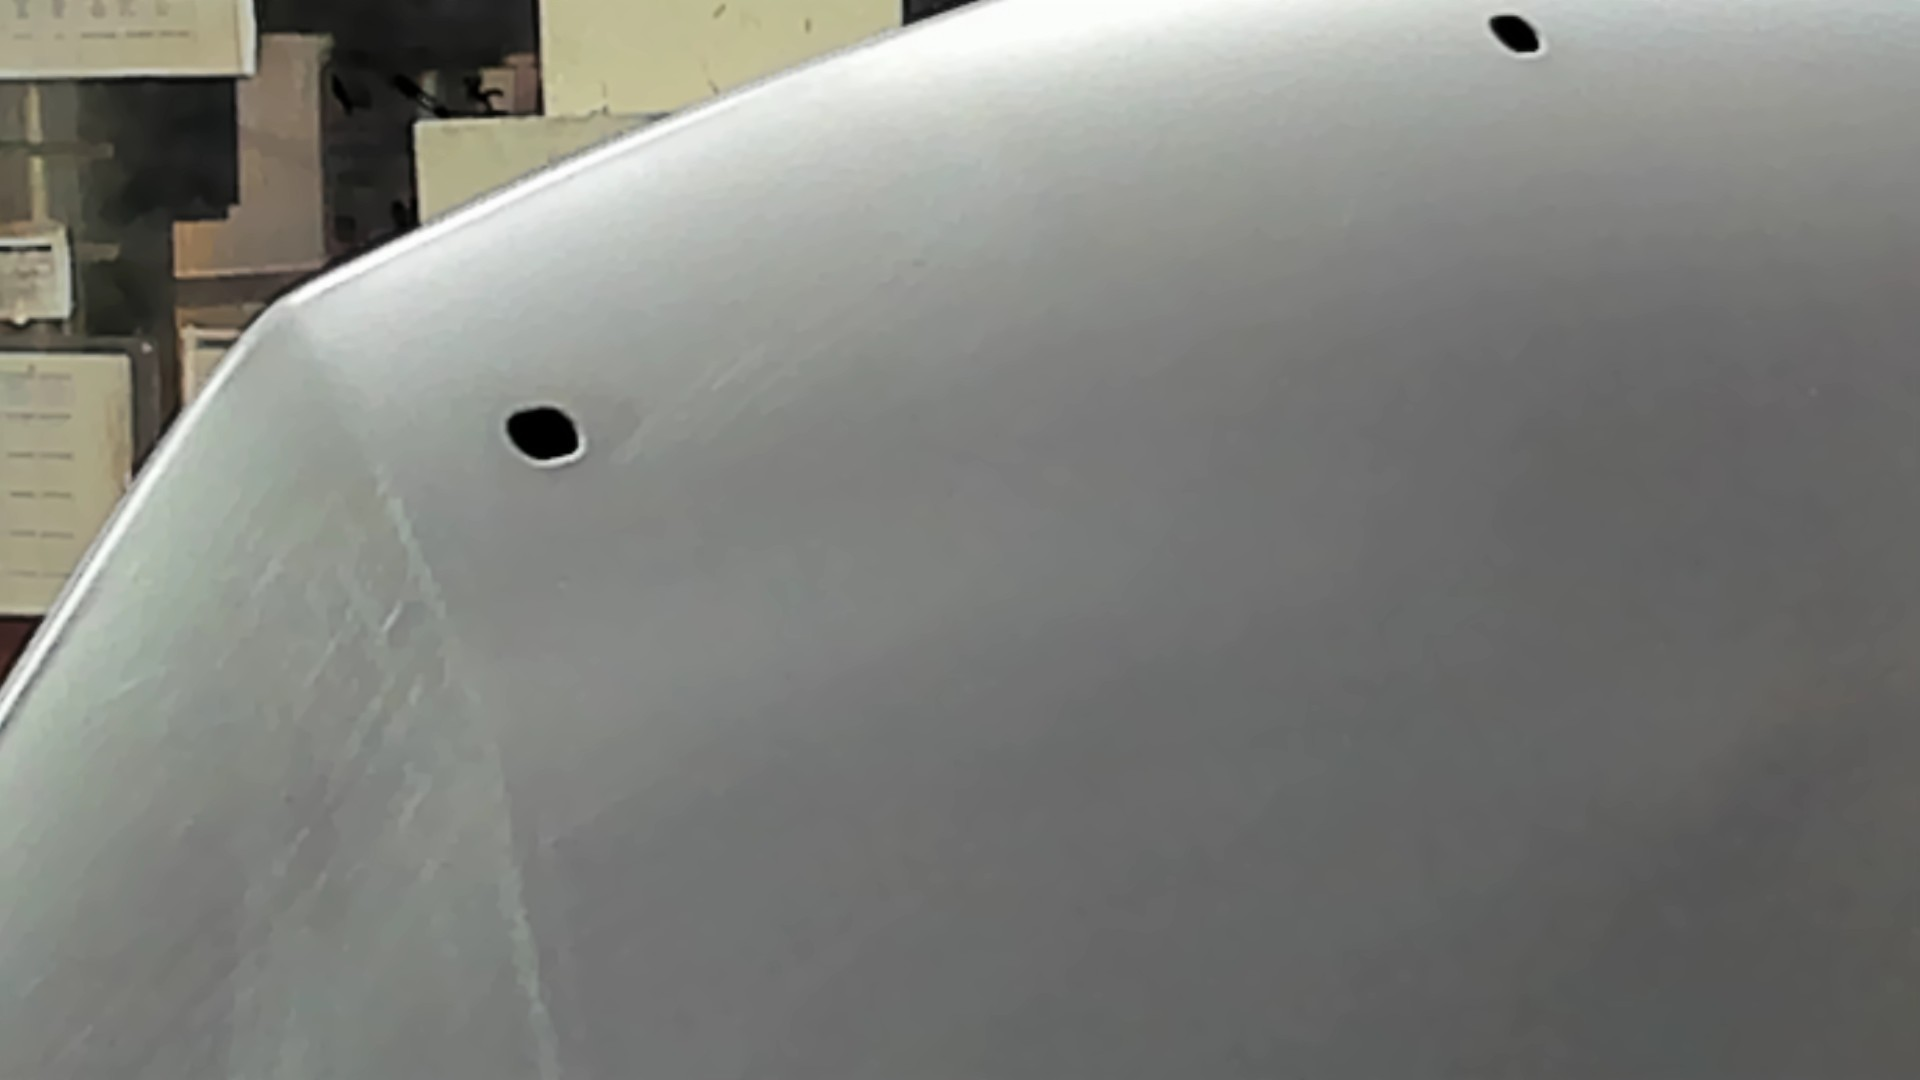amorfo: (496, 401, 589, 468), (1484, 11, 1553, 69)
capo: (705, 178, 1920, 1080)
